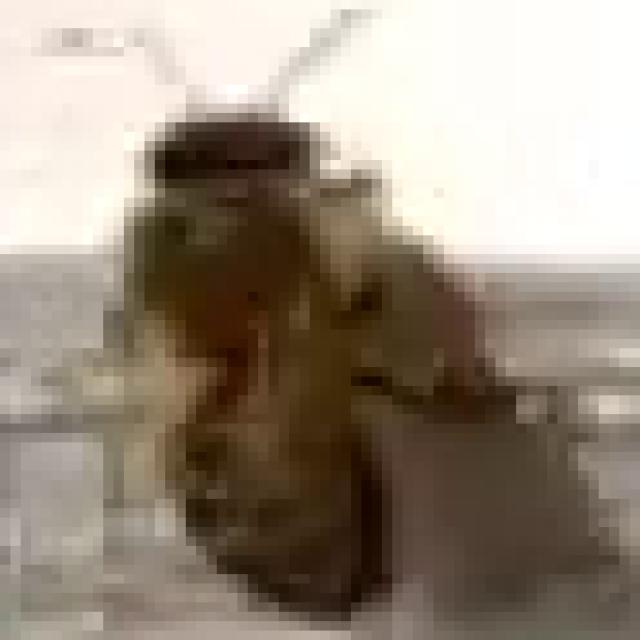honeybee: (91, 113, 477, 582)
